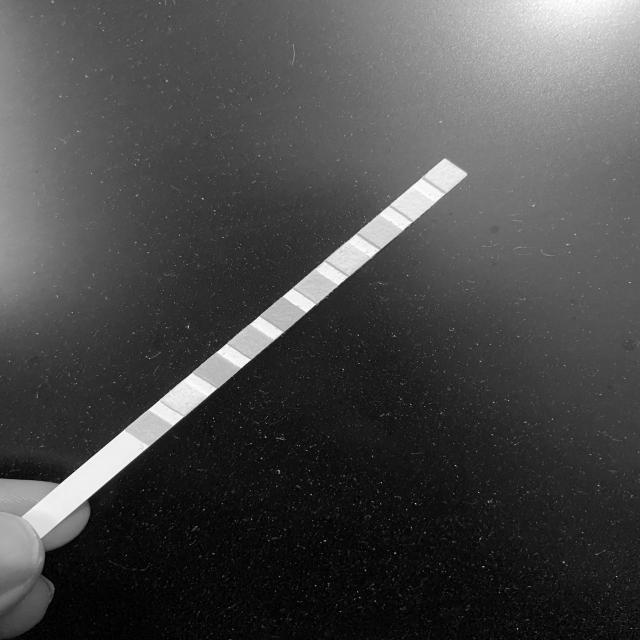Bilirubin: (171, 390, 197, 407)
Blood: (271, 306, 295, 322)
Glucose: (137, 419, 161, 436)
Ketone: (205, 362, 230, 378)
Leukocytes: (433, 168, 458, 184)
Nitrite: (401, 195, 424, 212)
Protein: (336, 251, 360, 266)
SpGravity: (239, 334, 262, 351)
Urobilinogen: (369, 223, 392, 240)
background: (0, 0, 640, 640)
pH: (303, 279, 328, 295)
strip: (22, 158, 467, 539)
